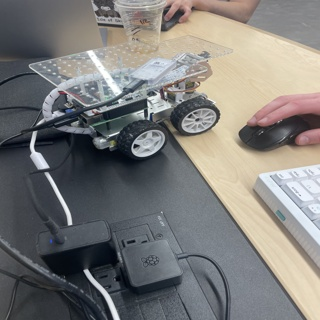vehicle: (28, 35, 231, 161)
